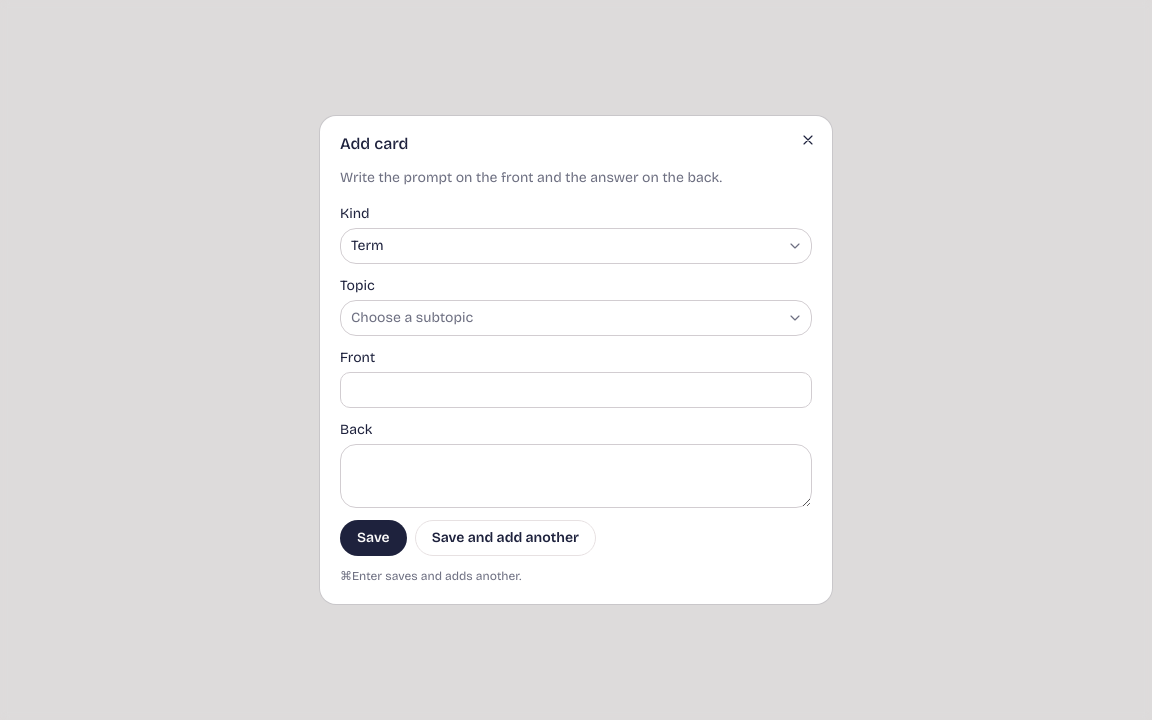
Test: requires a topic, then shows the server's duplicate verdict inline
In the field labelled "Front": (576, 390) [340, 372, 812, 408], type " inflation "
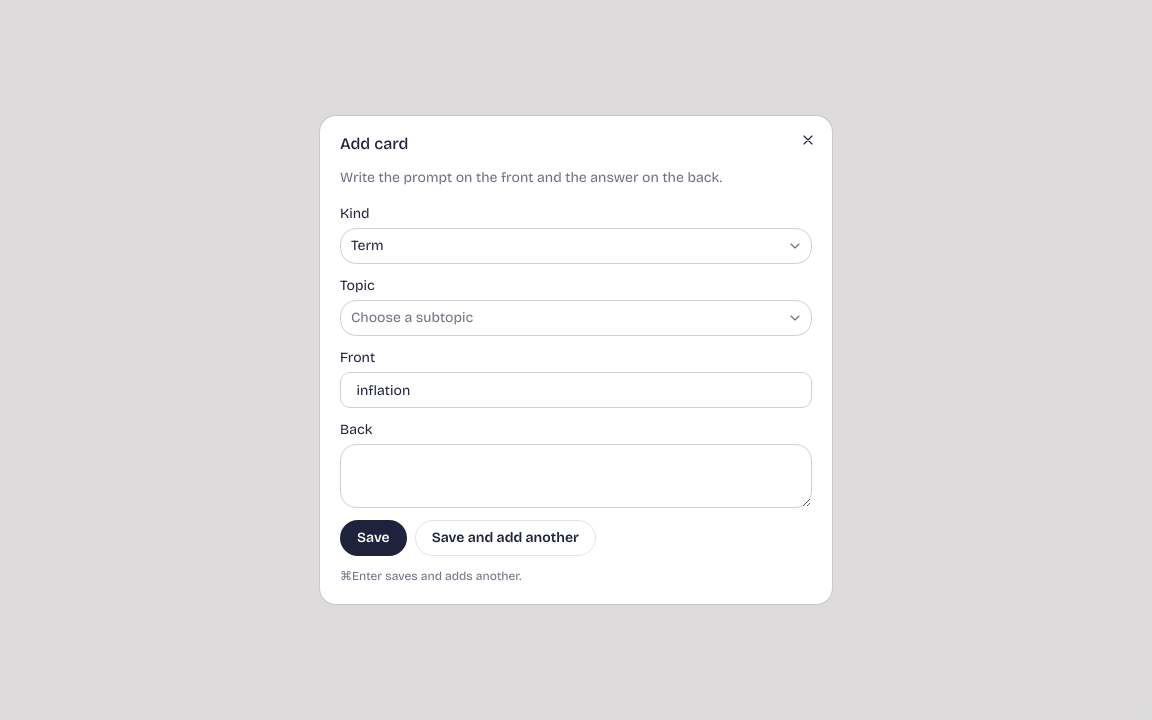
In the text box labelled "Back": (576, 476) [340, 444, 812, 508], type "answer"
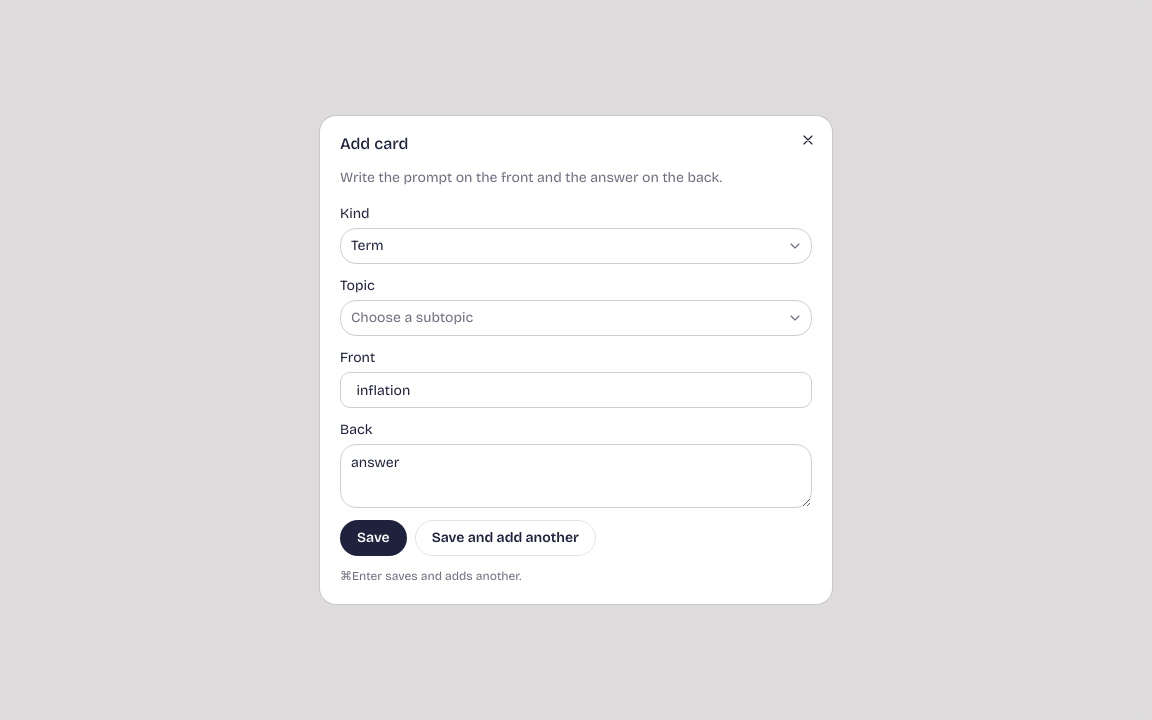
Click the button "Save": (373, 538) [340, 520, 407, 556]
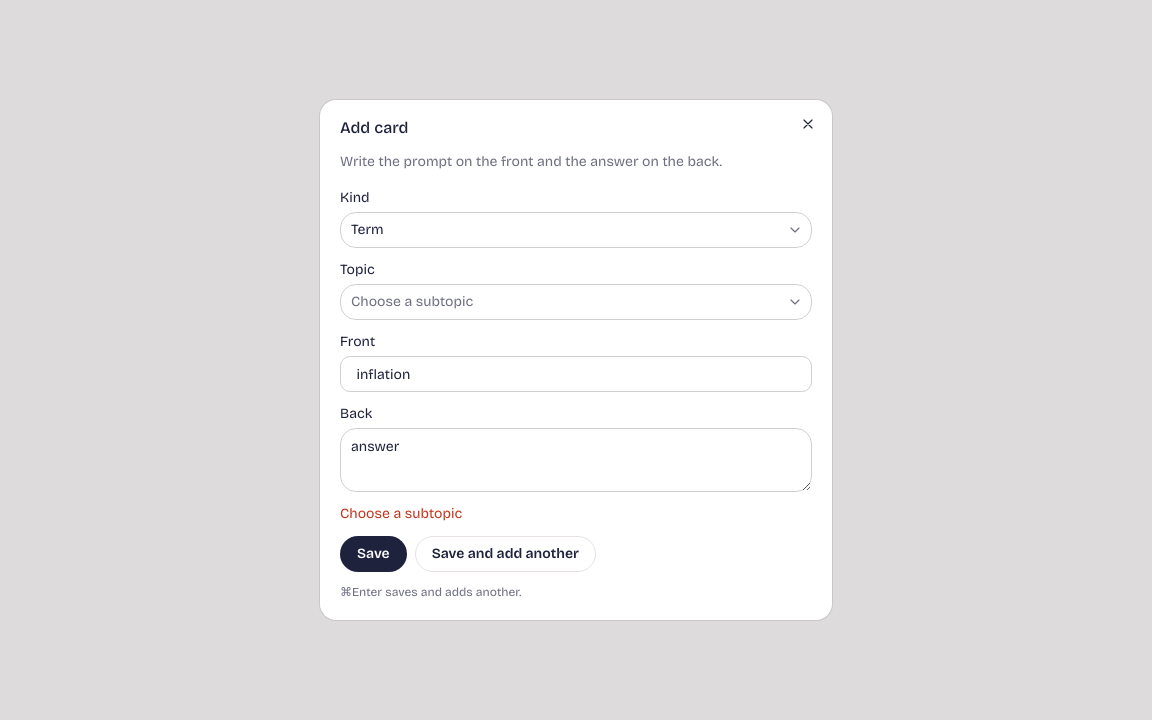
expect the message reads "Choose a subtopic": met, box [340, 505, 462, 522]
Click the dropdown labelled "topic": (412, 302) [340, 284, 812, 320]
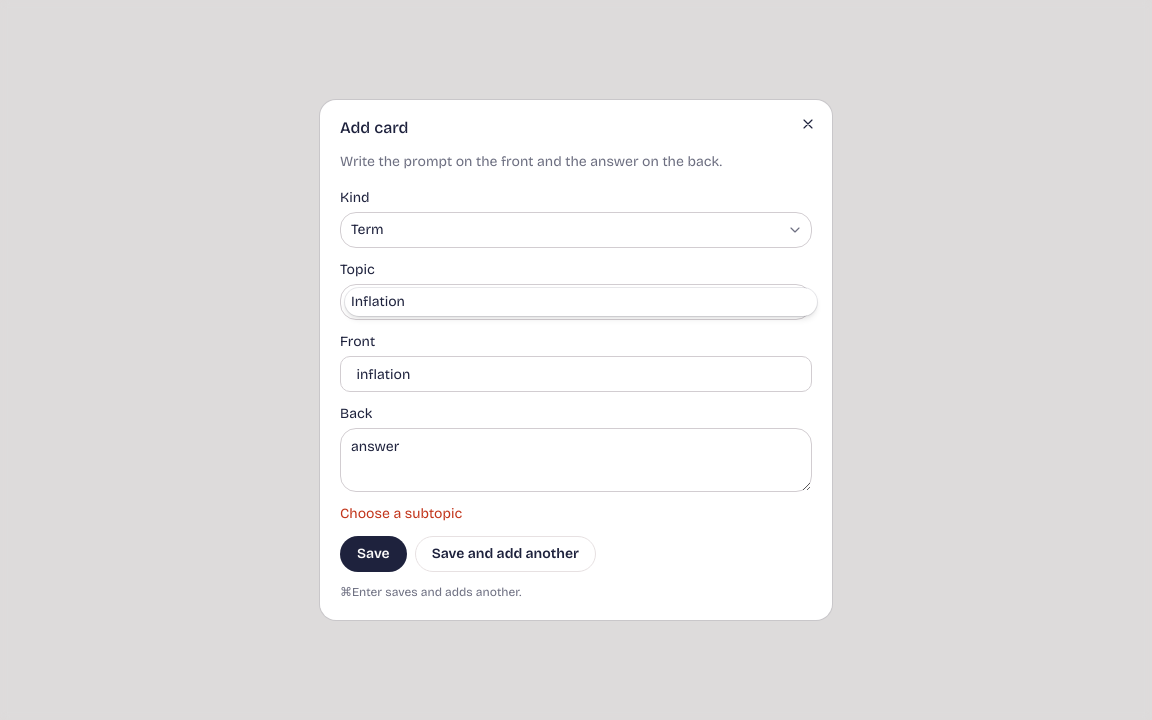
Click the option "Inflation": (378, 302) [351, 293, 405, 310]
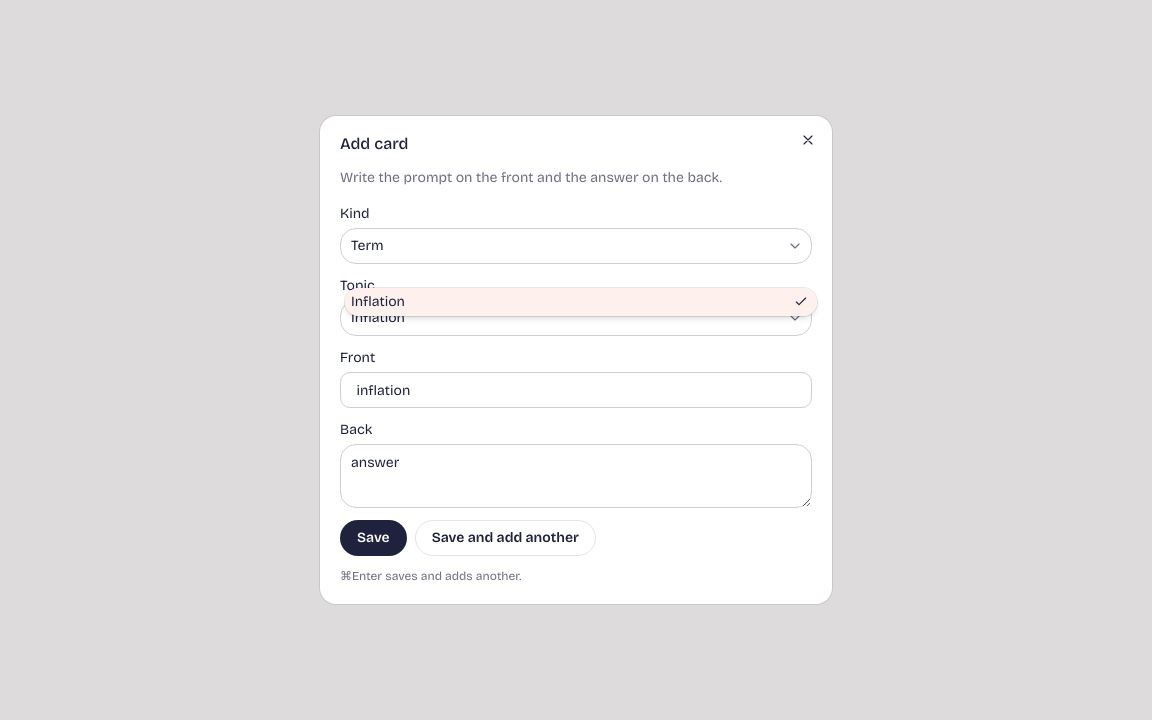
Click the button "Save": (373, 538) [340, 520, 407, 556]
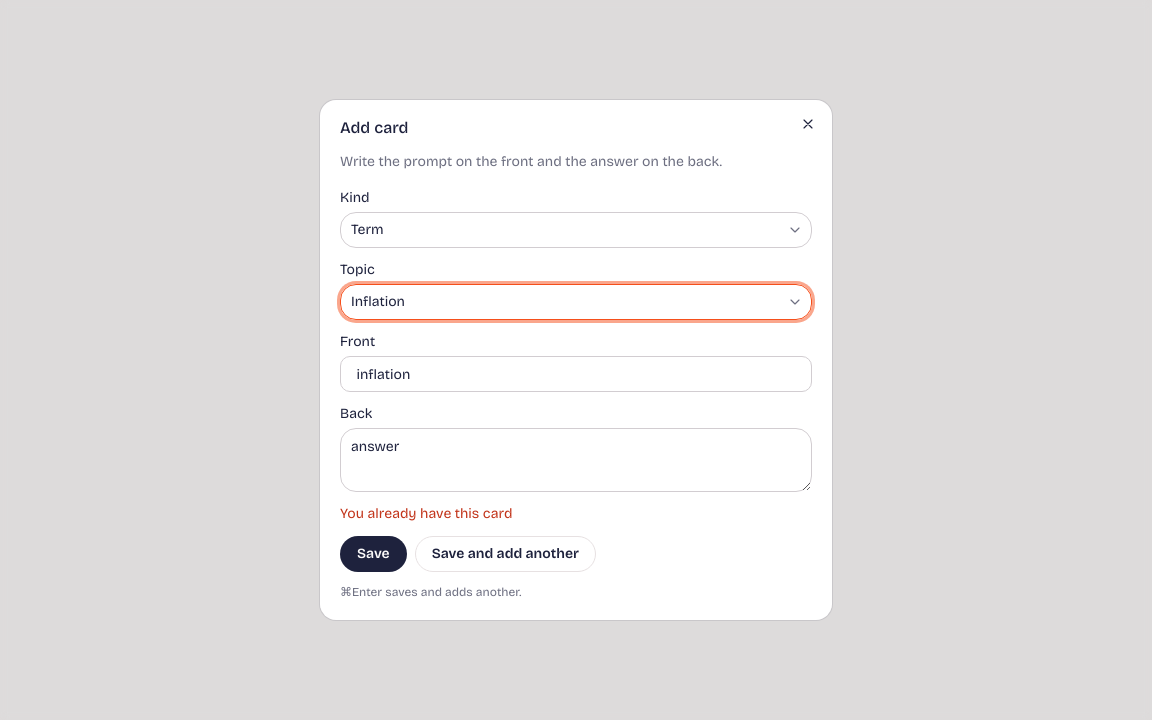
expect the message reads "You already have this card": met, box [340, 505, 512, 522]
